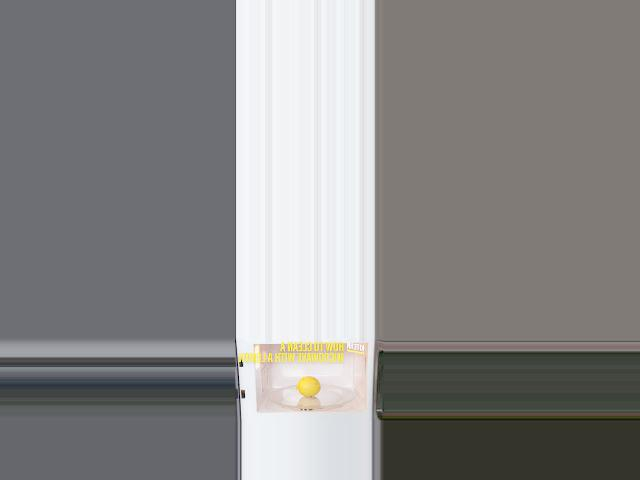lemon: (285, 373, 321, 400)
